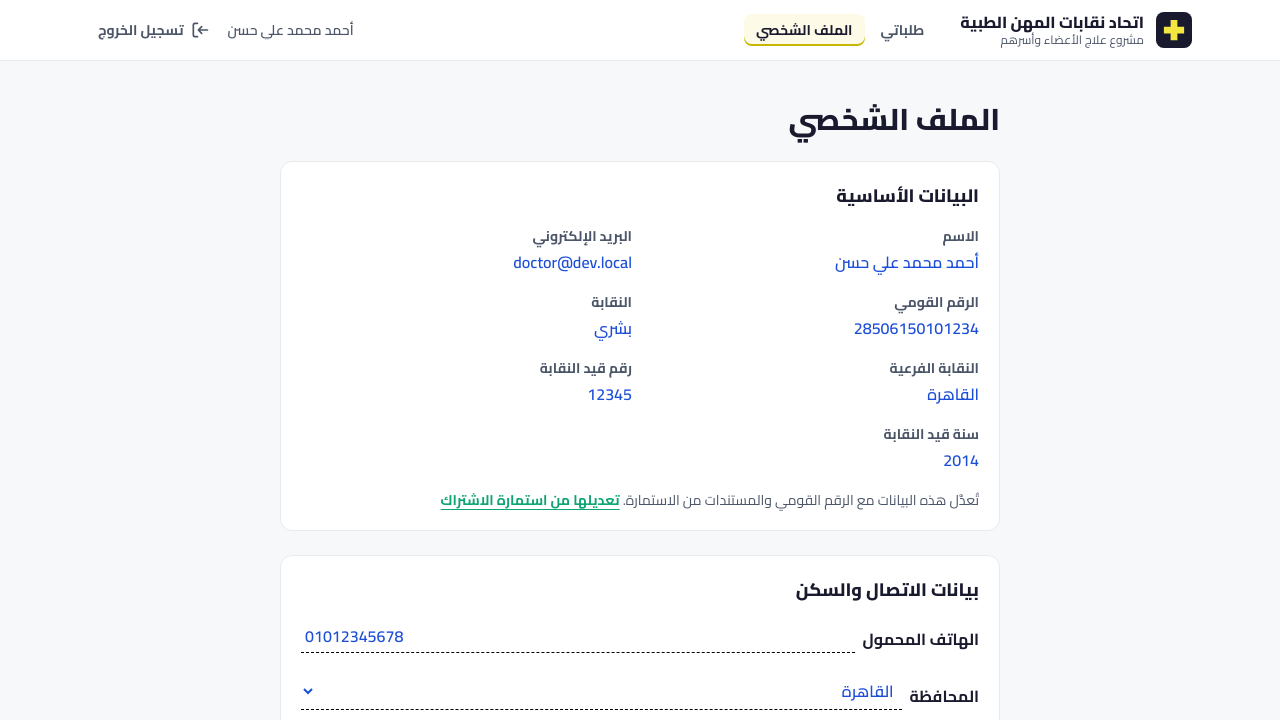
Test: ProfilePage › saves only the changed fields, normalizing Arabic digits
The width and height of the screenshot is (1280, 720).
Replace the text in the field labelled "الهاتف المحمول" with "٠١١٢٣٤٥٦٧٨٩": (578,636) [301,620,854,653]
(page scrolled)
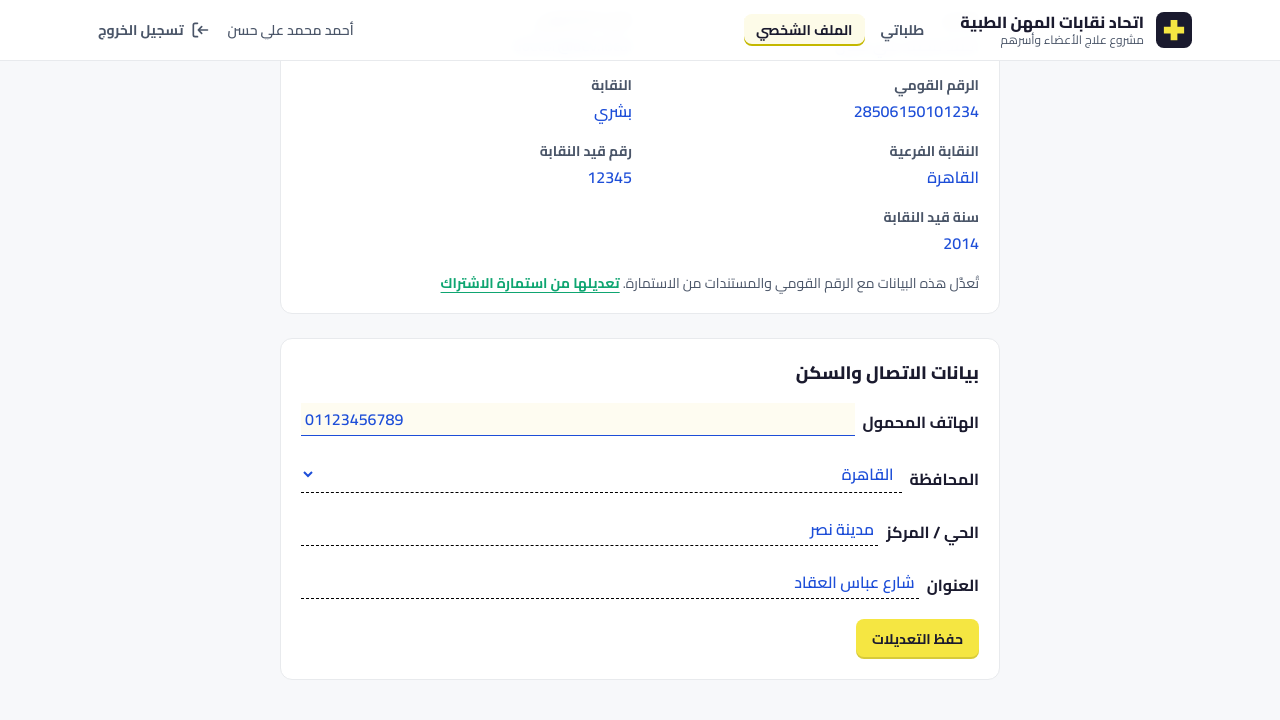
Click the button "حفظ التعديلات": (918,639) [856,619,979,659]
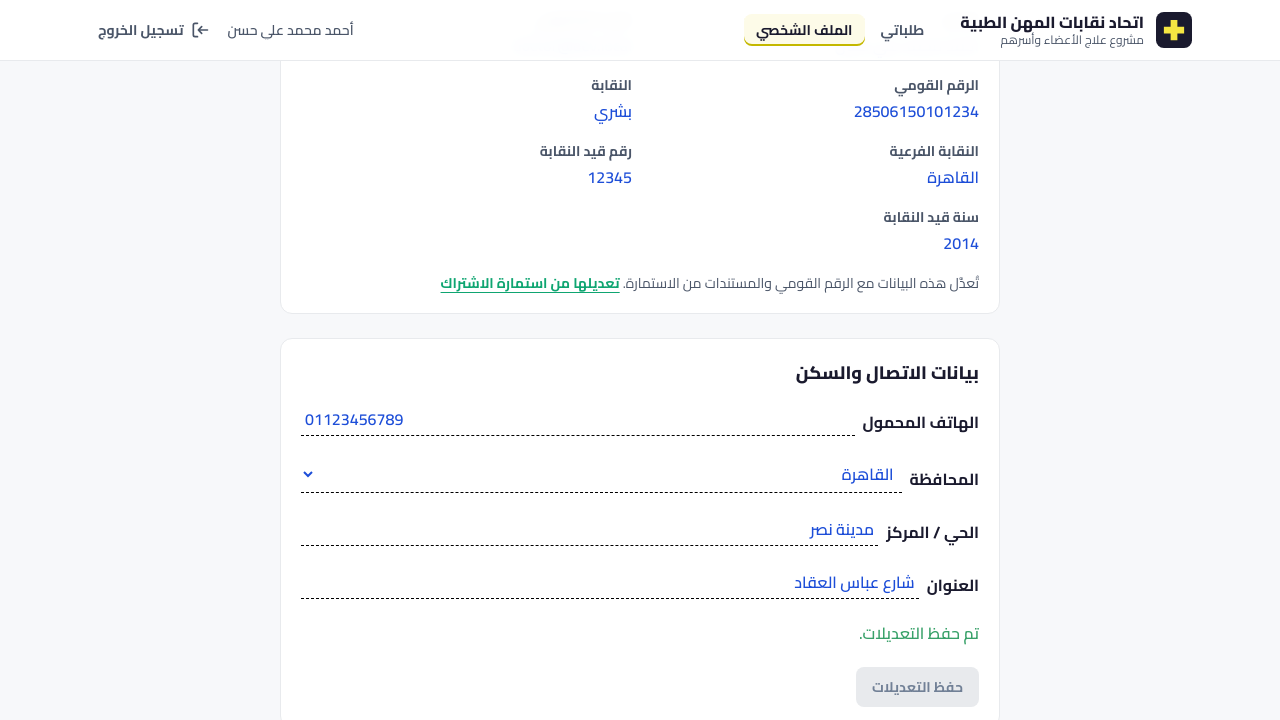
Check: the message reads "تم حفظ التعديلات.", box [859,618,979,648]
Check: the button "حفظ التعديلات" is disabled, box [856,667,979,707]
